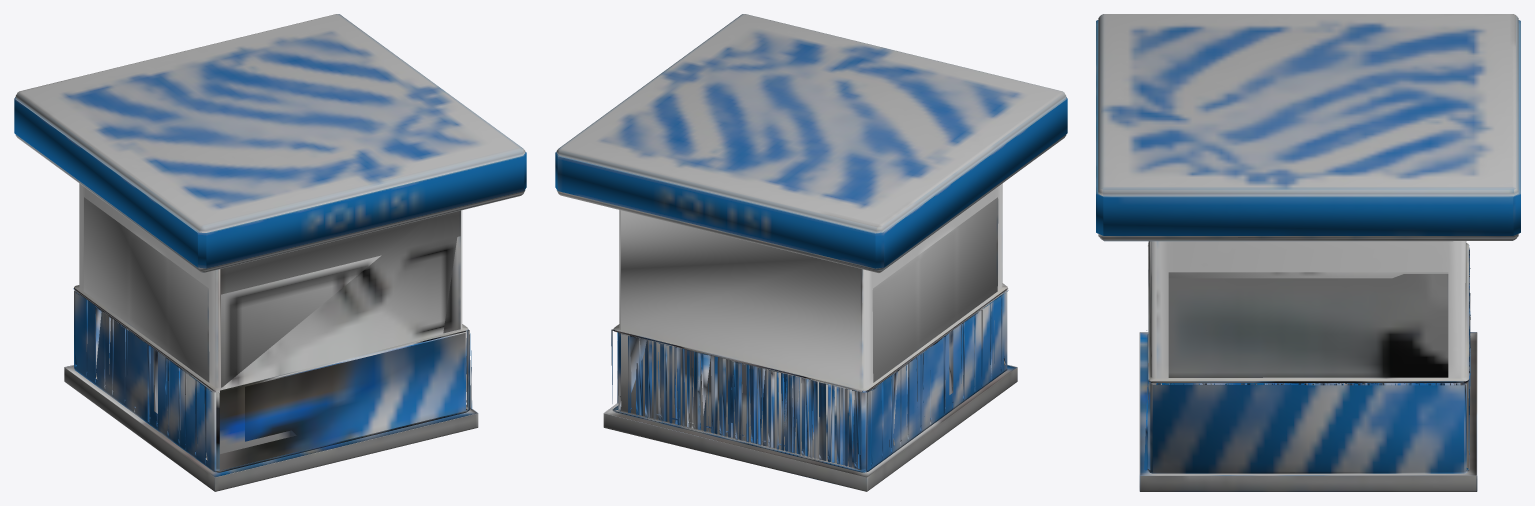
Rendered from pos_polisi_1.glb.
3 views of the same model, side by side, from view 1: azimuth 30°, elevation 25°; view 2: azimuth 150°, elevation 25°; view 3: azimuth 270°, elevation 25° (orthographic). The views are drawn at different scales.
Visible parts, largest first — view 1: tripo_node_42241b40; view 2: tripo_node_42241b40; view 3: tripo_node_42241b40.
Part boxes in pixels (<box>): tripo_node_42241b40: <box>14,14,526,491</box>; tripo_node_42241b40: <box>555,14,1067,491</box>; tripo_node_42241b40: <box>1096,14,1520,491</box>.
Bounding box in the file's own units: 1 × 0.8289 × 1.
1 material, 1 textured.
